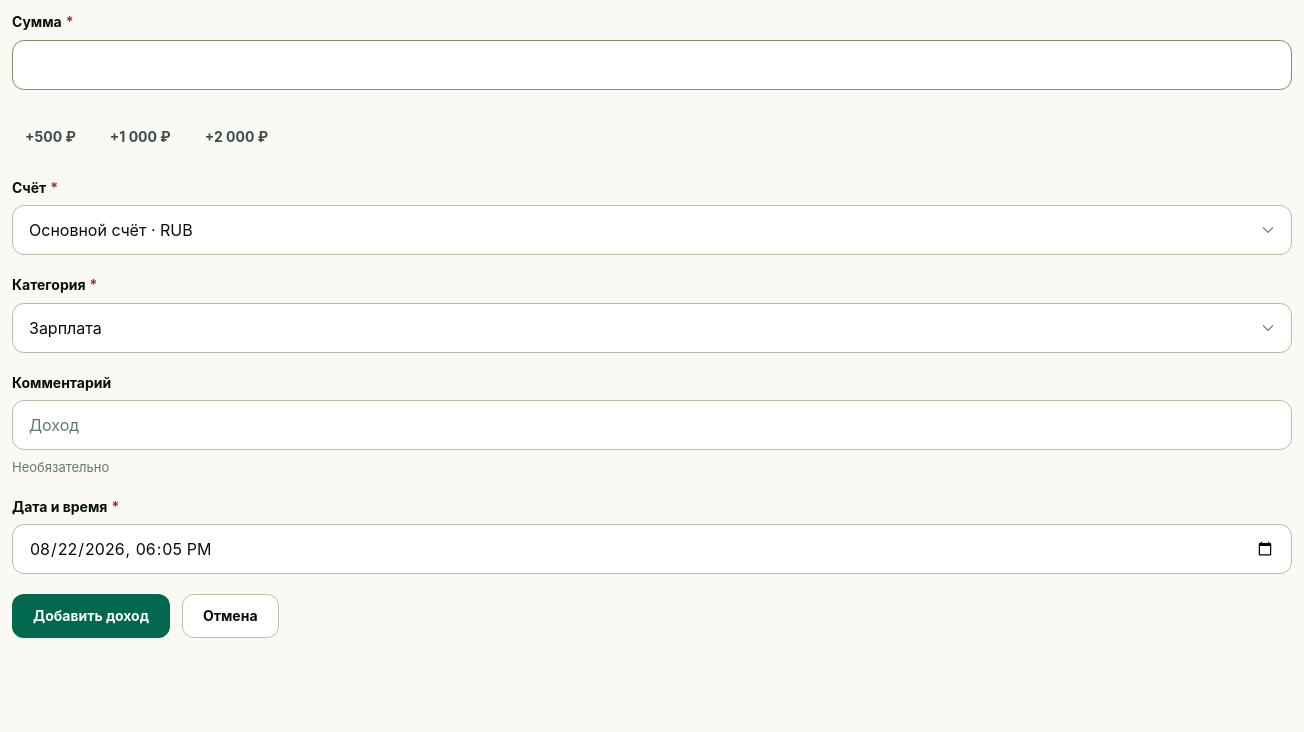
Test: OperationForm › surfaces a network failure without closing the form
In the field with test id "operation-amount": x=652, y=65 top-left (12, 40), bottom-right (1292, 90), type "1000"
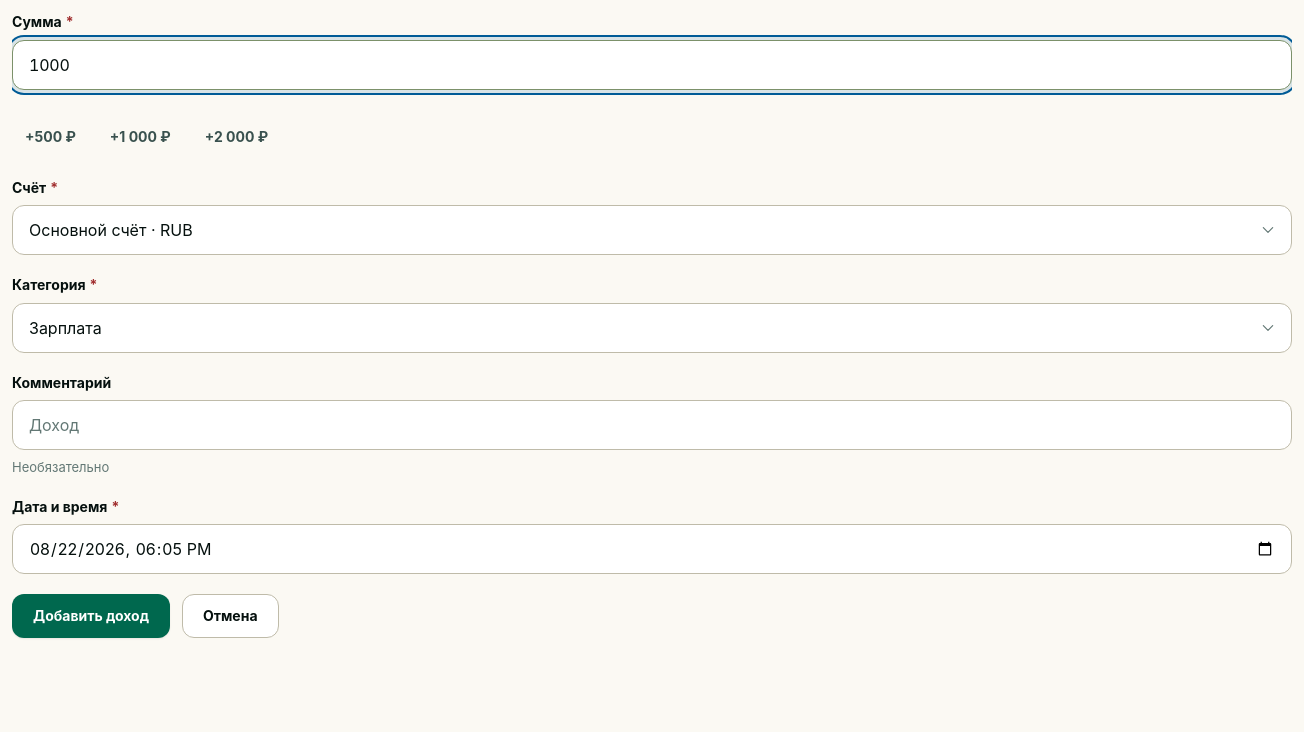
Click the button "Добавить доход": x=91, y=616 top-left (12, 594), bottom-right (170, 638)
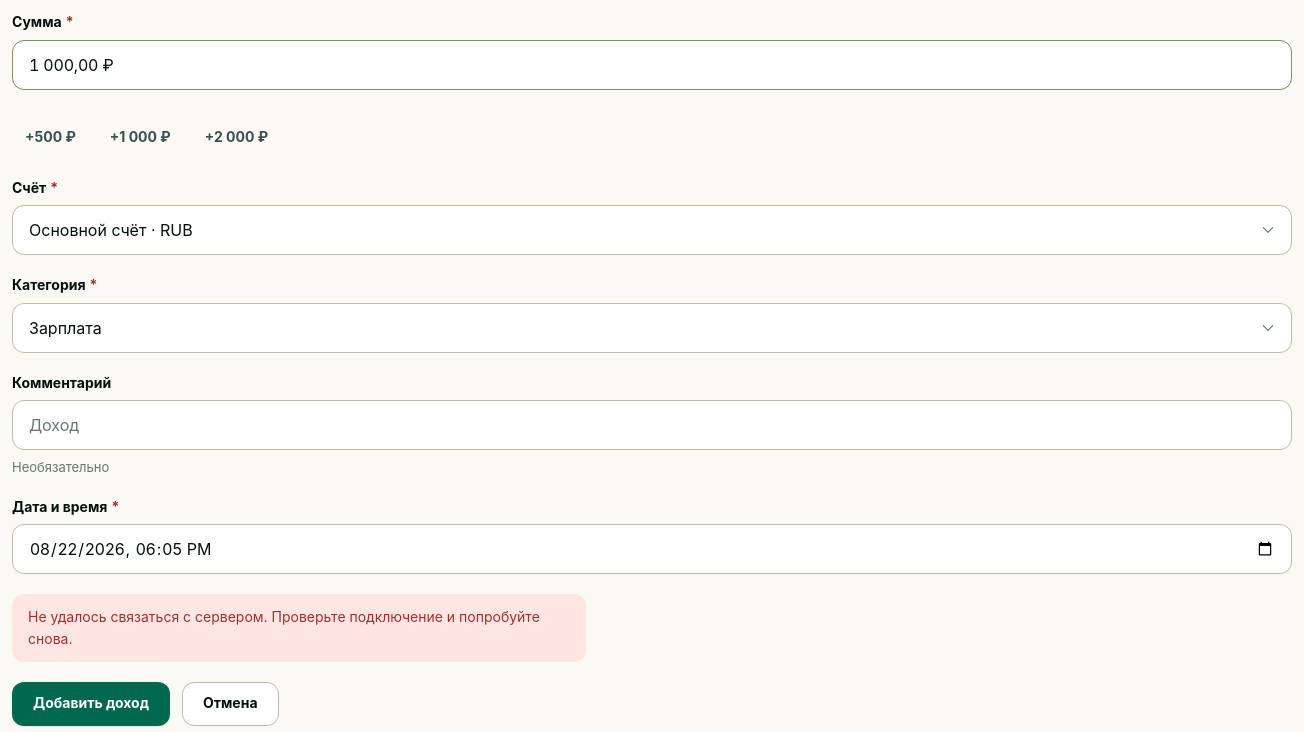
Expected: the text "Не удалось связаться с сервером. Проверьте подключение и попробуйте снова." is shown, top-left (12, 594), bottom-right (586, 662)
